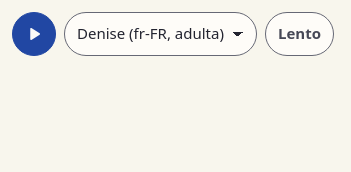
Scenario: «Lento» reutiliza el blob ya cargado a 0,75×
Later steps or results of the test are not shown.
Step 1. Click the button named "Reproducir" → (34, 34), box x1=12 y1=12 x2=56 y2=56
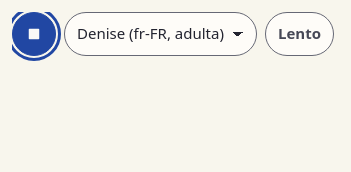
Expected: the button named "Detener" is shown, x1=12 y1=12 x2=56 y2=56
